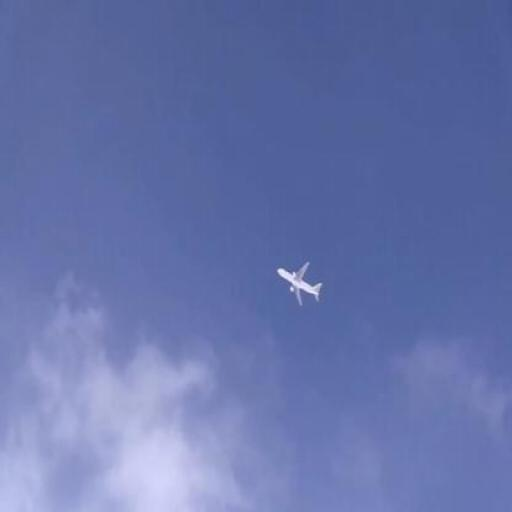aircraft: (278, 263, 325, 308)
